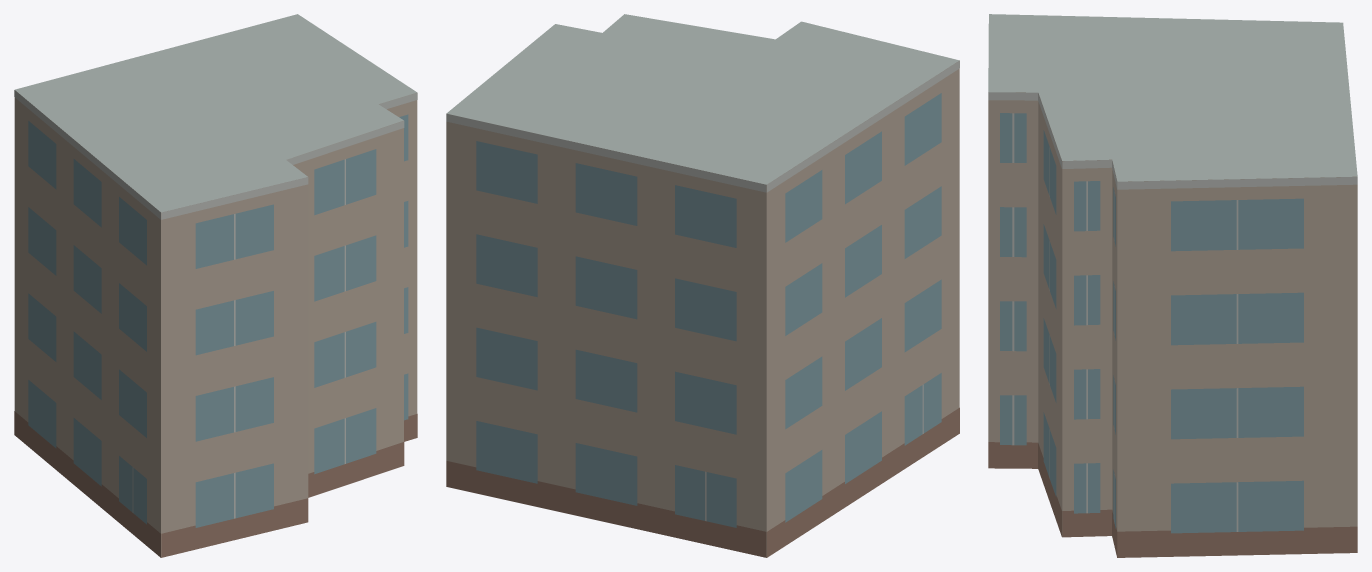
The model's file is survey-upis-32909989.glb.
The picture shows the model from 3 angles, left to right: view 1: azimuth 30°, elevation 25°; view 2: azimuth 150°, elevation 25°; view 3: azimuth 270°, elevation 25°; orthographic projection. The views are drawn at different scales.
Parts seen in each view (by area): view 1: survey-upis-32909989.tmp; view 2: survey-upis-32909989.tmp; view 3: survey-upis-32909989.tmp.
Boxes of the visible parts, left/top/right/bottom form: survey-upis-32909989.tmp: left=14, top=14, right=417, bottom=557; survey-upis-32909989.tmp: left=446, top=14, right=959, bottom=557; survey-upis-32909989.tmp: left=988, top=14, right=1357, bottom=557.
Bounding box in the file's own units: 10.91 × 11.4 × 10.16.
